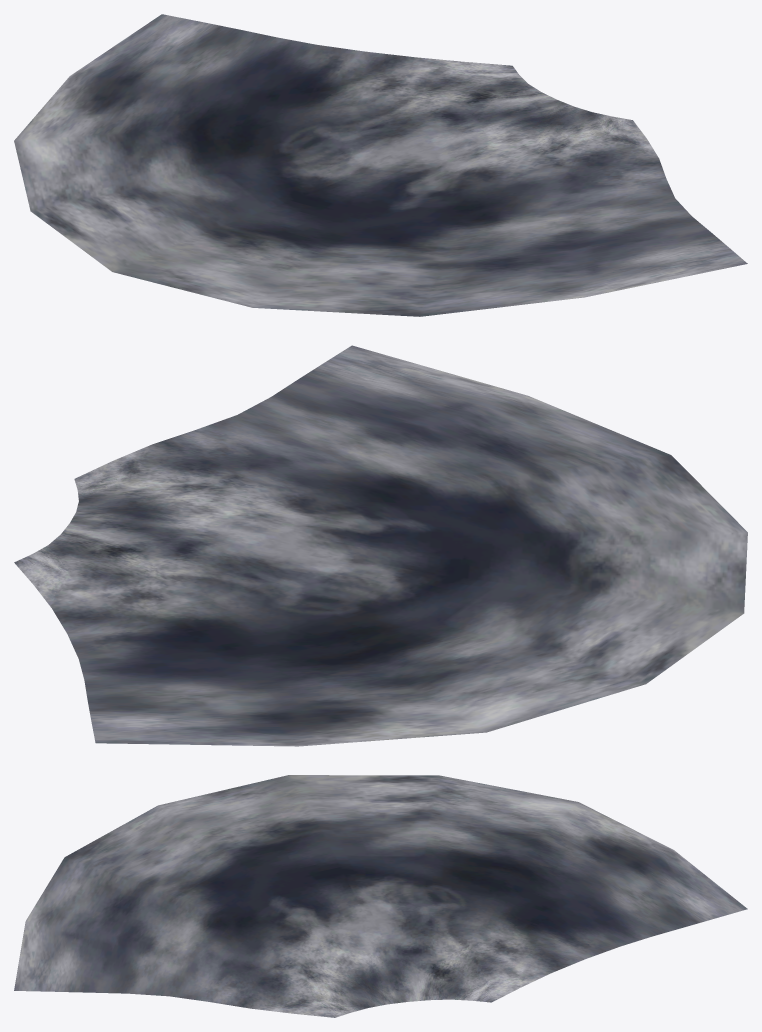
Rendered from CB_NEWPLAYSURFACE_CB_WATERFALLS12.fbx.
3 renders of one model, top to bottom at view 1: azimuth 30°, elevation 25°; view 2: azimuth 150°, elevation 25°; view 3: azimuth 270°, elevation 25°, orthographic. The views are drawn at different scales.
Parts seen in each view (by area): view 1: CB_NEWPLAYSURFACE_CB_WATERFALLS12; view 2: CB_NEWPLAYSURFACE_CB_WATERFALLS12; view 3: CB_NEWPLAYSURFACE_CB_WATERFALLS12.
Part boxes in pixels (x1,y1,x2,y2): CB_NEWPLAYSURFACE_CB_WATERFALLS12: [14, 14, 747, 316]; CB_NEWPLAYSURFACE_CB_WATERFALLS12: [14, 345, 747, 746]; CB_NEWPLAYSURFACE_CB_WATERFALLS12: [14, 775, 747, 1017].
Bounding box in the file's own units: 136688 × 1594 × 174491.
1 material, 1 textured.
